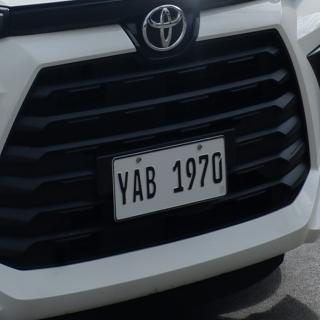license: (114, 137, 228, 222)
